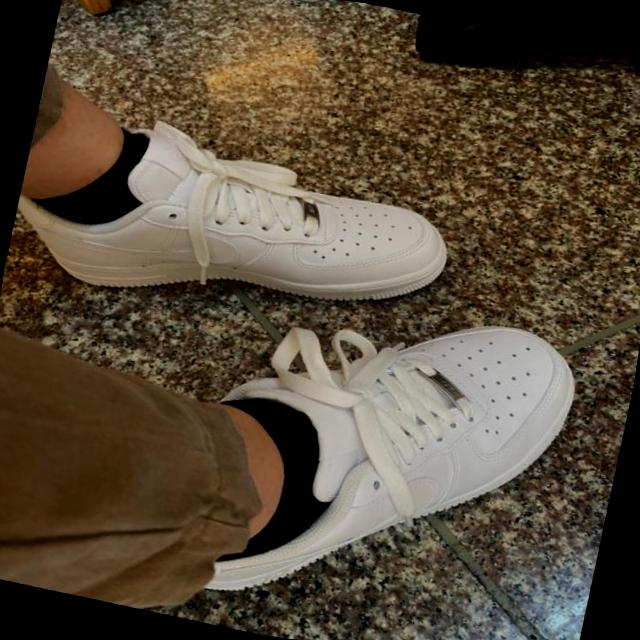nike_original_airforce: (157, 262, 602, 640), (1, 93, 468, 361)
